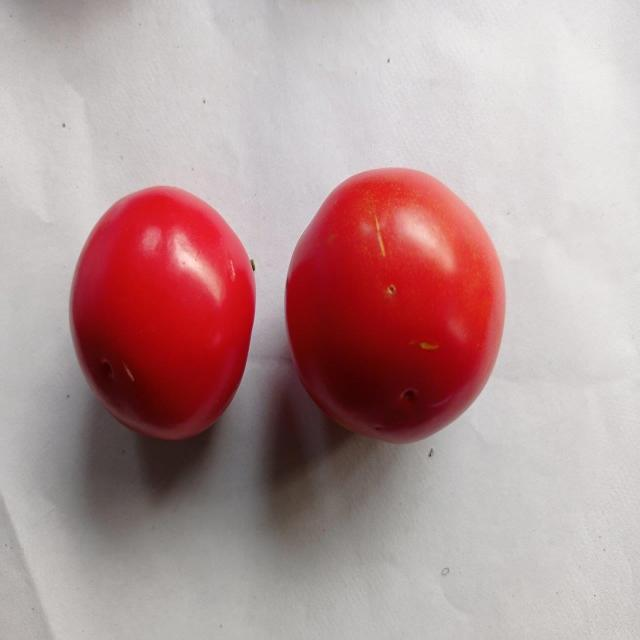Ripe: (282, 160, 506, 444), (71, 179, 259, 450)
